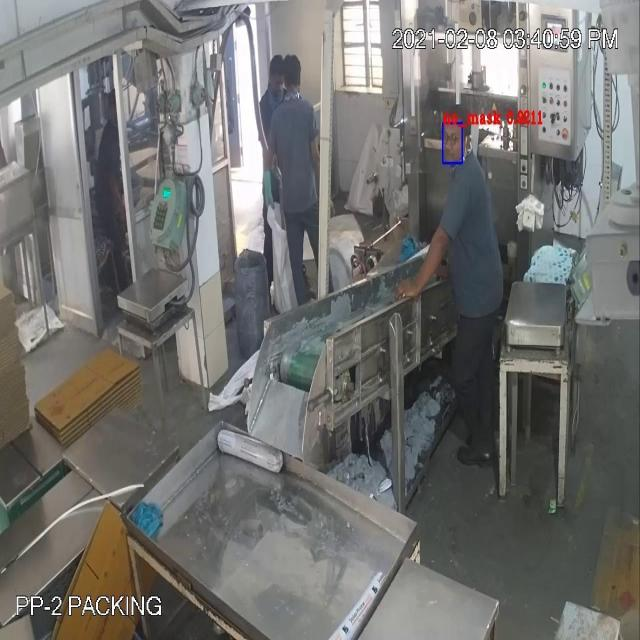No_Gloves: (395, 216, 455, 306)
